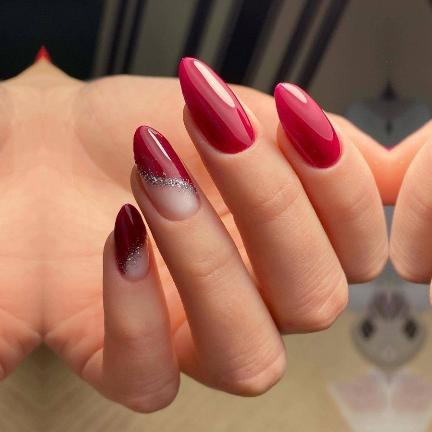Nail: (178, 57, 255, 154), (133, 125, 200, 221), (273, 82, 341, 169), (113, 203, 149, 281)
